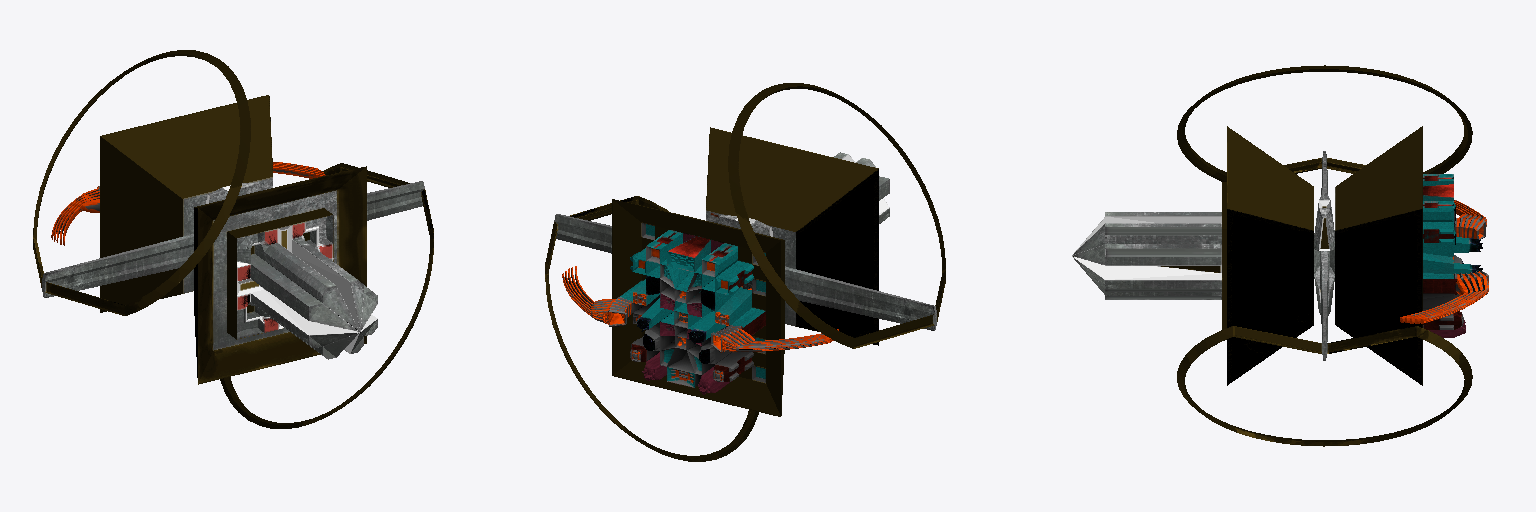
The picture shows the model from 3 angles: view 1: azimuth 30°, elevation 25°; view 2: azimuth 150°, elevation 25°; view 3: azimuth 270°, elevation 25°; orthographic projection.
Visible parts, largest first — view 1: CubeObject_CubeMesh; view 2: CubeObject_CubeMesh; view 3: CubeObject_CubeMesh.
Part boxes in pixels (left/top/right/bottom): CubeObject_CubeMesh: left=33, top=50, right=433, bottom=428; CubeObject_CubeMesh: left=545, top=83, right=945, bottom=461; CubeObject_CubeMesh: left=1072, top=65, right=1488, bottom=446.
Bounding box in the file's own units: 8.42 × 7.67 × 8.02.
1 materials, 1 textured.